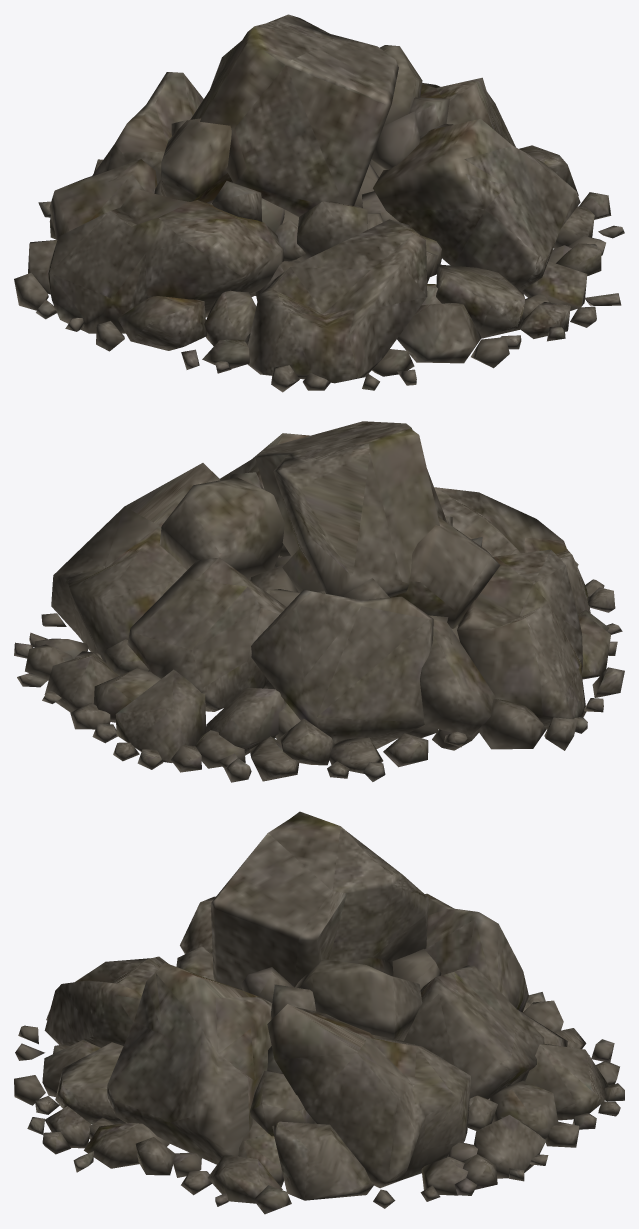
Rendered from x_rock_single_E.glb.
The picture shows the model from 3 angles, top to bottom: view 1: azimuth 30°, elevation 25°; view 2: azimuth 150°, elevation 25°; view 3: azimuth 270°, elevation 25°; orthographic projection.
Visible parts, largest first — view 1: x_rock_single_E; view 2: x_rock_single_E; view 3: x_rock_single_E.
Part boxes in pixels (<box>): x_rock_single_E: <box>14,14,624,392</box>; x_rock_single_E: <box>14,421,624,782</box>; x_rock_single_E: <box>14,811,624,1214</box>.
Bounding box in the file's own units: 0.4881 × 0.2254 × 0.4881.
1 material, 1 textured.
